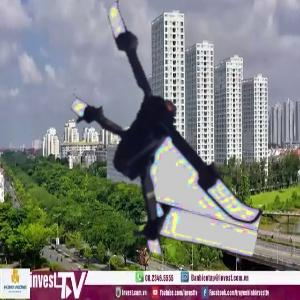drone: (32, 5, 280, 253)
